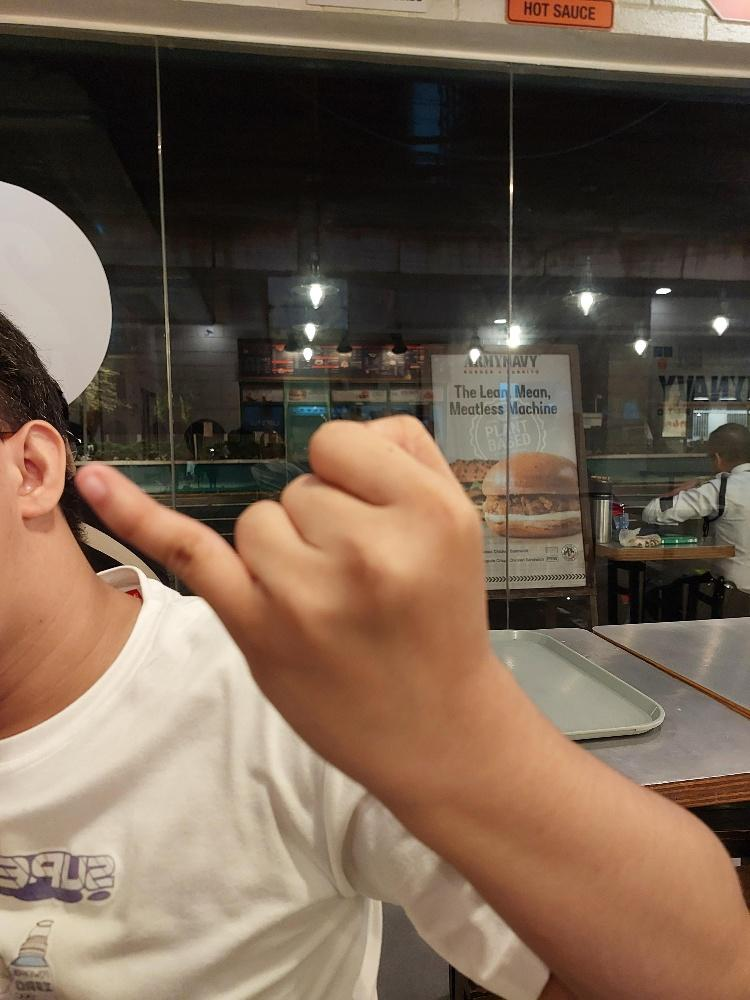j: (71, 410, 496, 765)
